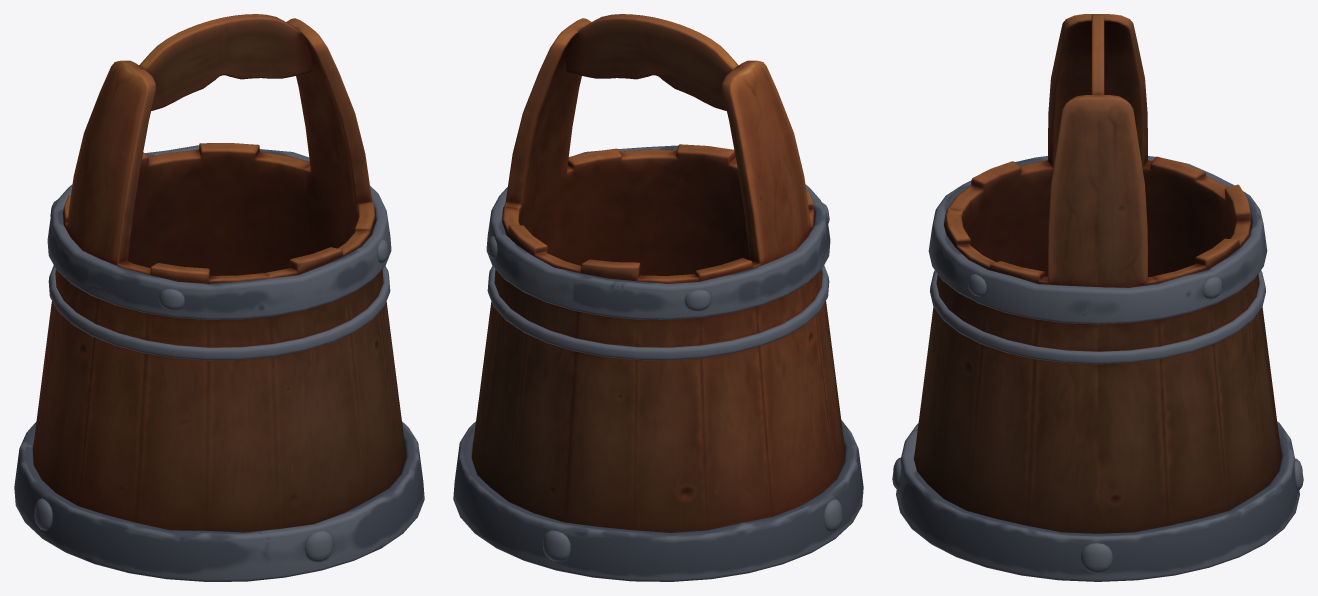
File: stylized_lowpoly_asian_bucket.glb
3 renders of one model, left to right at view 1: azimuth 30°, elevation 25°; view 2: azimuth 150°, elevation 25°; view 3: azimuth 270°, elevation 25°, orthographic.
Parts seen in each view (by area): view 1: Prop_Bucket_Low; view 2: Prop_Bucket_Low; view 3: Prop_Bucket_Low.
Boxes of the visible parts, box(x1,y1,x2,y2) form: Prop_Bucket_Low: box(14, 14, 424, 581); Prop_Bucket_Low: box(453, 14, 863, 581); Prop_Bucket_Low: box(892, 14, 1303, 581).
Size of the model in its own units: 1.09 by 1.37 by 1.09.
Materials: 1 (1 with a texture image).
